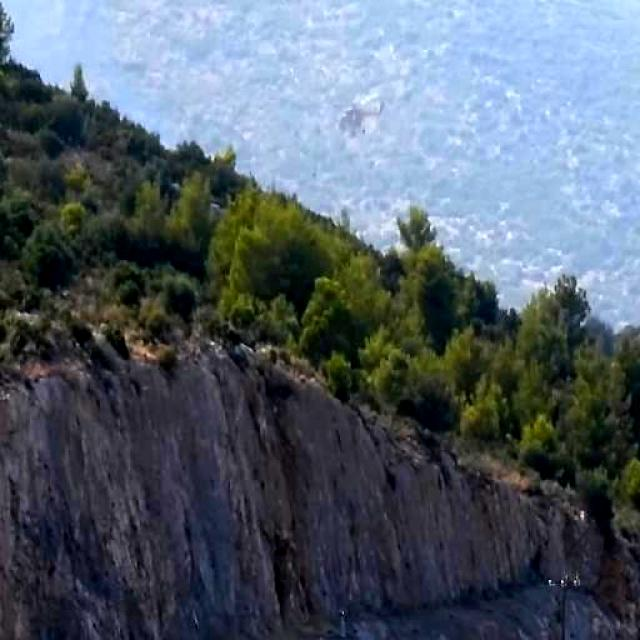drone: (331, 92, 394, 154)
